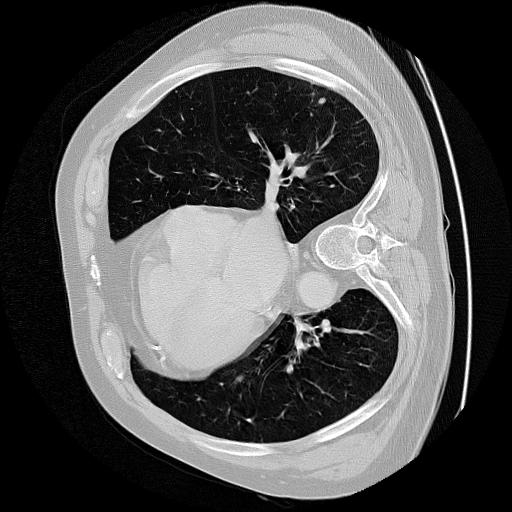nodule: (316, 93, 329, 106)
